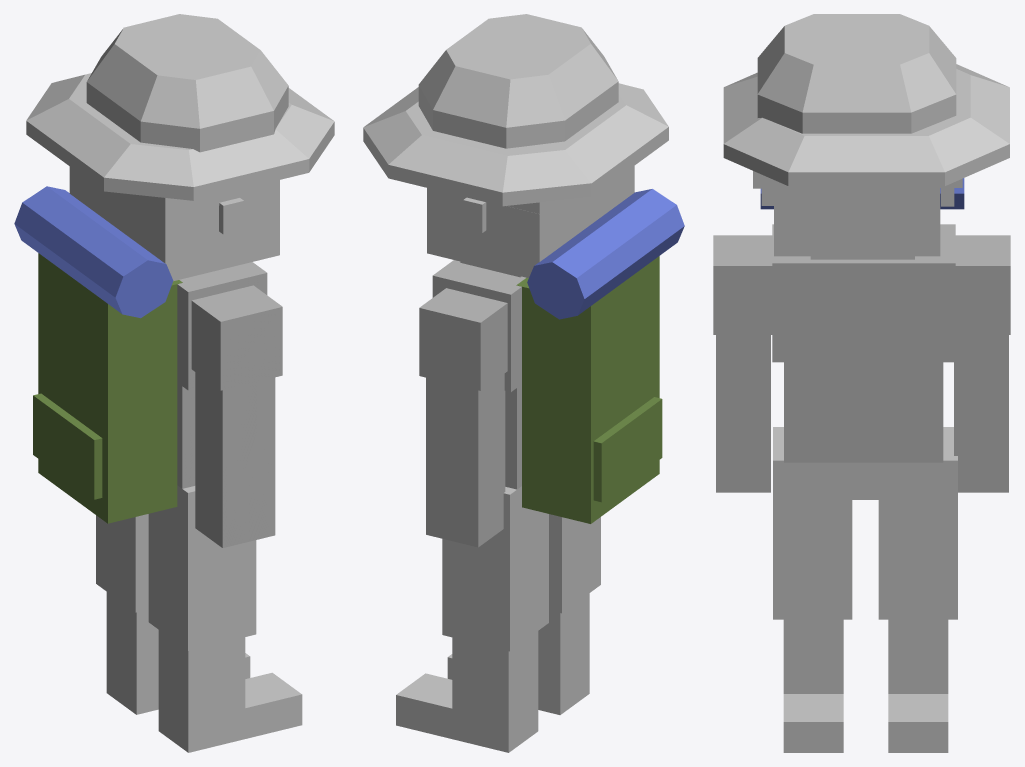
The model's file is Player.fbx.
3 views of the same model, side by side, from view 1: azimuth 30°, elevation 25°; view 2: azimuth 150°, elevation 25°; view 3: azimuth 270°, elevation 25° (orthographic).
Parts seen in each view (by area): view 1: pCube183, pCube185, pCube182, pCube181; view 2: pCube183, pCube185, pCube182, pCube181; view 3: pCube181, pCube183, pCube182.
Part boxes in pixels (x1=…): pCube183: x1=26, y1=14, x2=334, y2=281; pCube185: x1=14, y1=186, x2=182, y2=523; pCube182: x1=96, y1=485, x2=302, y2=752; pCube181: x1=177, y1=262, x2=282, y2=547; pCube183: x1=363, y1=14, x2=668, y2=277; pCube185: x1=516, y1=189, x2=684, y2=523; pCube182: x1=396, y1=486, x2=600, y2=752; pCube181: x1=419, y1=260, x2=525, y2=547; pCube181: x1=713, y1=224, x2=1010, y2=492; pCube183: x1=723, y1=14, x2=1009, y2=259; pCube182: x1=773, y1=427, x2=957, y2=752.
Size of the model in its own units: 2.43 by 6.67 by 2.66.
